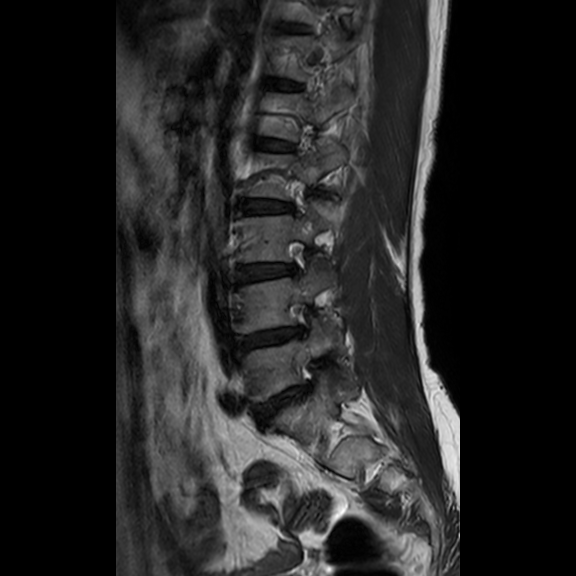RFS1: (274, 289, 318, 348), (277, 233, 321, 286)
